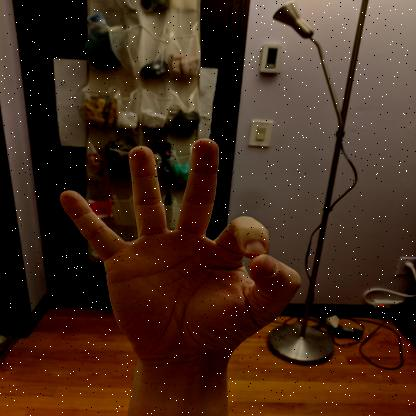F: (59, 138, 301, 367)
